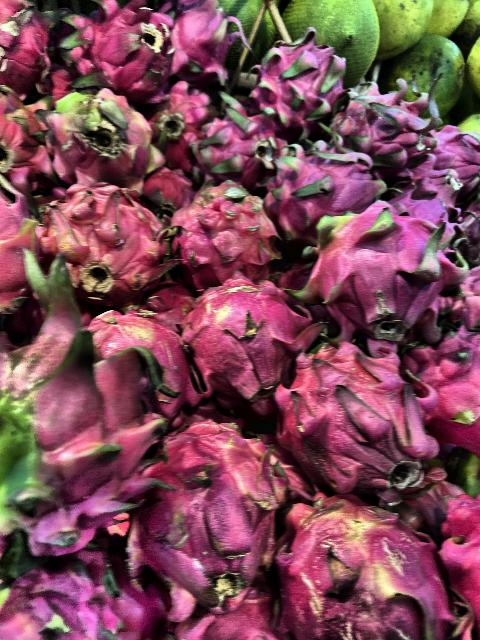buah-naga-belum-matang: (2, 269, 166, 563), (270, 494, 454, 640), (138, 430, 274, 604), (36, 90, 166, 196), (36, 186, 160, 296), (182, 284, 300, 398), (168, 184, 272, 282), (0, 175, 36, 301)
buah-naga-matang: (300, 198, 462, 344), (274, 346, 436, 492), (265, 140, 381, 240), (58, 2, 174, 102), (247, 30, 343, 130), (337, 76, 433, 168), (404, 332, 480, 436), (188, 108, 278, 182), (168, 0, 230, 96)
